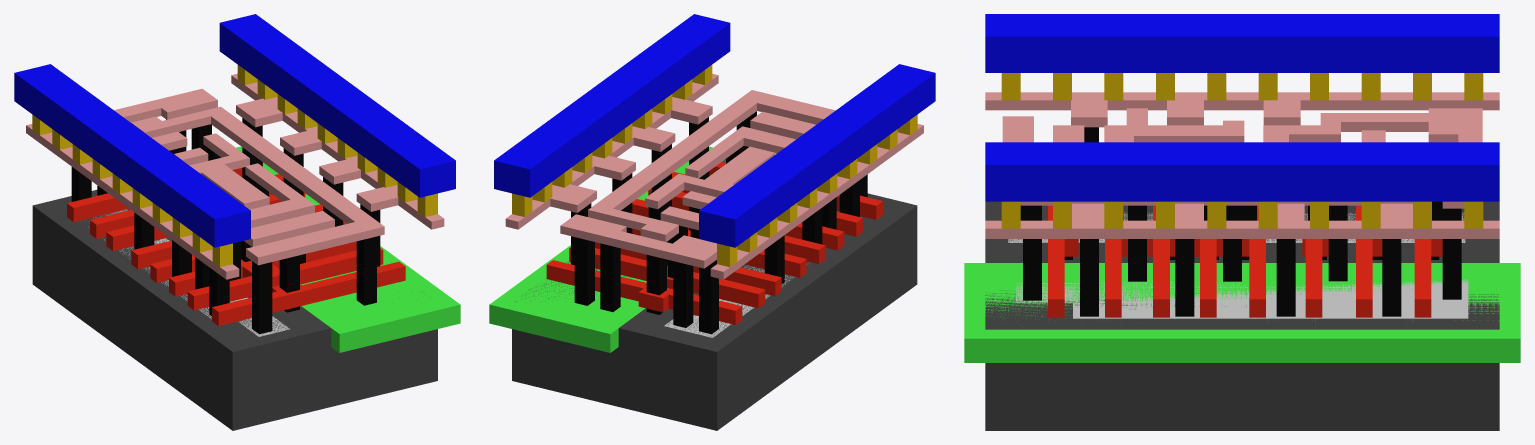
The model's file is sky130_fd_sc_hd__and3b_4.obj.
The picture shows the model from 3 angles, left to right: view 1: azimuth 30°, elevation 25°; view 2: azimuth 150°, elevation 25°; view 3: azimuth 270°, elevation 25°; orthographic projection. The views are drawn at different scales.
Visible parts, largest first — view 1: subs, metal1, li, poly, licon, nwell, mcon, diff; view 2: subs, metal1, li, licon, poly, nwell, mcon, diff; view 3: metal1, subs, li, nwell, licon, poly, mcon, tap.
Boxes of the visible parts, x1=… form: subs: x1=32, y1=190, x2=437, y2=430; metal1: x1=14, y1=14, x2=455, y2=247; li: x1=26, y1=73, x2=444, y2=279; poly: x1=67, y1=162, x2=405, y2=325; licon: x1=71, y1=118, x2=380, y2=334; nwell: x1=236, y1=146, x2=460, y2=352; mcon: x1=32, y1=65, x2=437, y2=266; diff: x1=88, y1=209, x2=290, y2=336; subs: x1=512, y1=159, x2=917, y2=430; metal1: x1=494, y1=14, x2=935, y2=247; li: x1=505, y1=73, x2=923, y2=279; licon: x1=571, y1=111, x2=867, y2=334; poly: x1=546, y1=162, x2=882, y2=324; nwell: x1=489, y1=146, x2=725, y2=352; mcon: x1=512, y1=65, x2=917, y2=266; diff: x1=664, y1=265, x2=794, y2=337; metal1: x1=985, y1=14, x2=1499, y2=201; subs: x1=985, y1=201, x2=1499, y2=430; li: x1=985, y1=92, x2=1499, y2=238; nwell: x1=964, y1=263, x2=1520, y2=362; licon: x1=1020, y1=127, x2=1461, y2=316; poly: x1=1048, y1=205, x2=1442, y2=317; mcon: x1=1001, y1=73, x2=1483, y2=228; tap: x1=1016, y1=279, x2=1468, y2=318.
Bounding box in the file's own units: 3.2 × 2.74 × 4.98.
